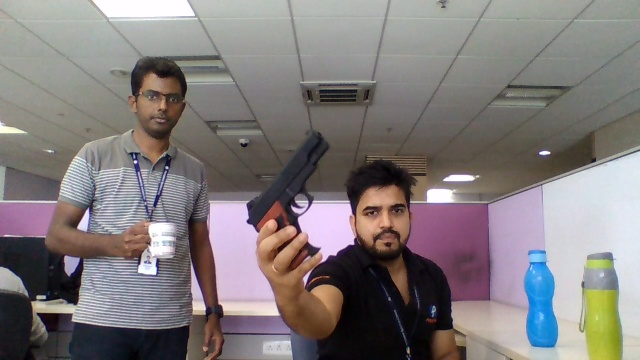gun: (242, 131, 332, 218)
